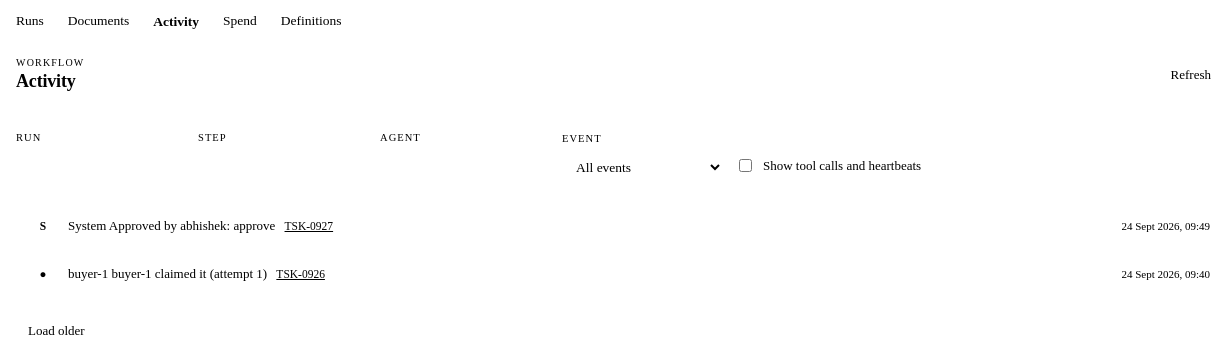
Test: Activity screen › loads older events on request
Click the button "Load older". click: (56, 330)
box: [16, 316, 97, 344]
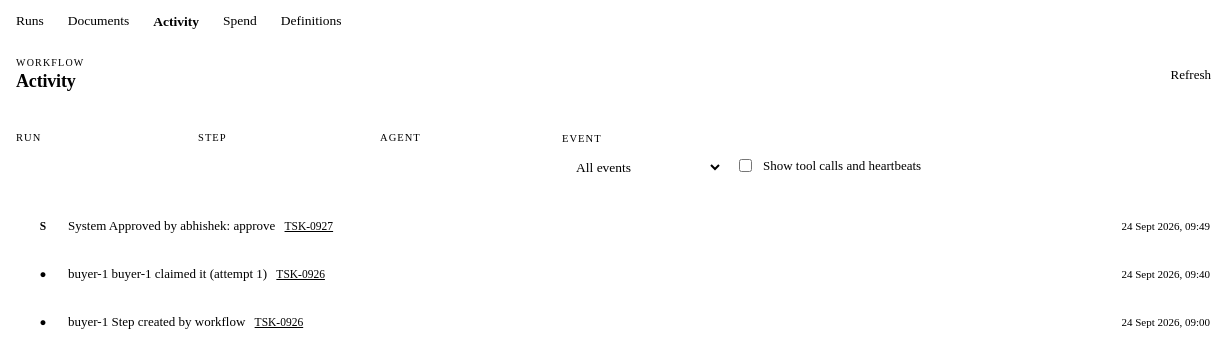
Check: the text "Step created by workflow" is shown, box [111, 314, 245, 329]
